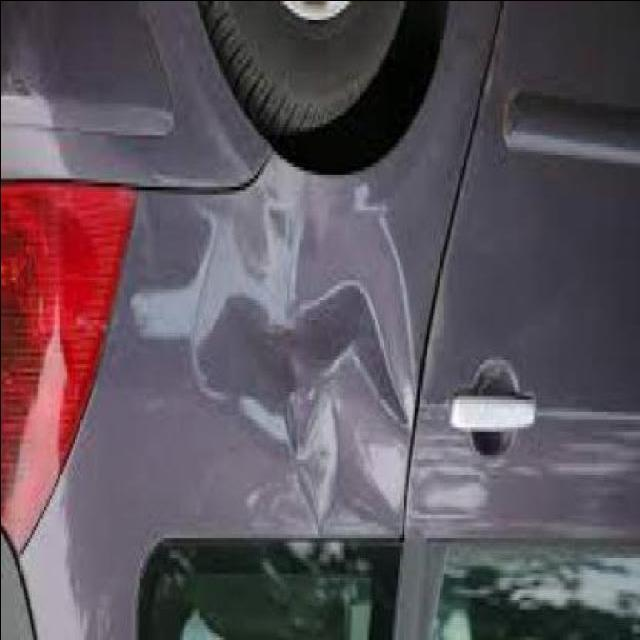quaterpanel-dent: (134, 110, 414, 541)
